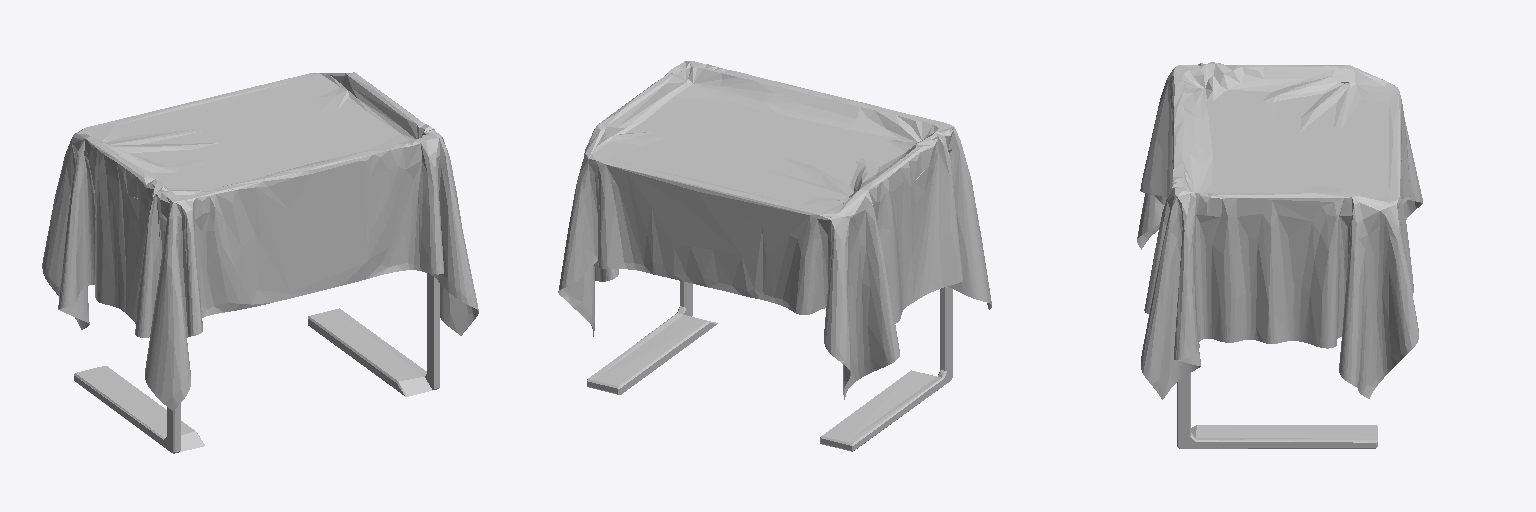
The model's file is ToolsTable.obj.
3 renders of one model, left to right at view 1: azimuth 30°, elevation 25°; view 2: azimuth 150°, elevation 25°; view 3: azimuth 270°, elevation 25°, orthographic.
Parts seen in each view (by area): view 1: ToolsTable; view 2: ToolsTable; view 3: ToolsTable.
Boxes of the visible parts, <box> form: ToolsTable: <box>42,72,478,453</box>; ToolsTable: <box>558,61,991,451</box>; ToolsTable: <box>1137,62,1422,448</box>.
Bounding box in the file's own units: 1.04 × 0.7737 × 0.7804.